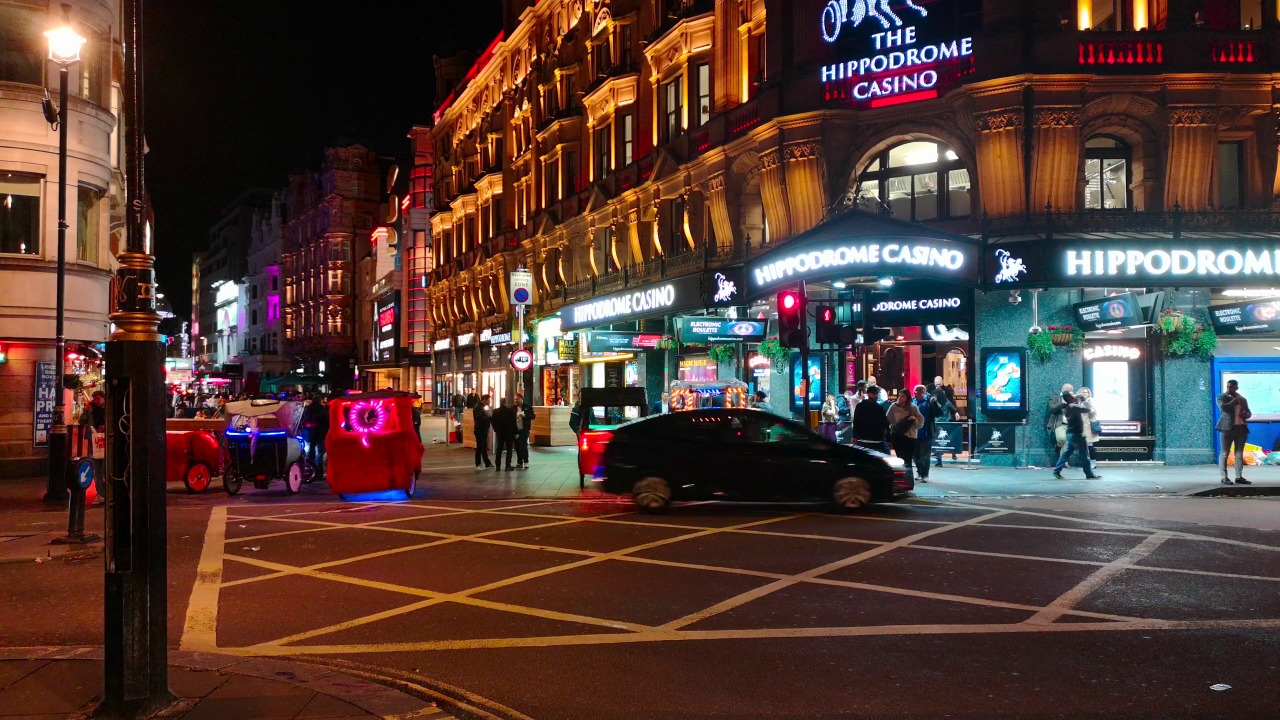car: (570, 400, 928, 519), (332, 393, 429, 508), (232, 394, 320, 495), (580, 381, 641, 484), (160, 425, 234, 494), (664, 381, 742, 414)
person: (1211, 376, 1251, 484), (1054, 395, 1093, 481), (82, 385, 111, 500), (566, 390, 597, 478), (890, 387, 919, 479), (913, 379, 935, 485), (857, 385, 887, 453), (1044, 380, 1073, 450), (511, 397, 536, 476), (492, 398, 518, 472), (1079, 386, 1110, 440), (474, 393, 495, 472), (931, 391, 955, 452), (821, 394, 838, 443), (835, 391, 851, 438), (865, 373, 889, 402), (931, 375, 953, 398), (749, 389, 769, 413), (450, 387, 467, 414), (852, 379, 866, 411), (713, 389, 733, 408), (467, 389, 480, 404)
